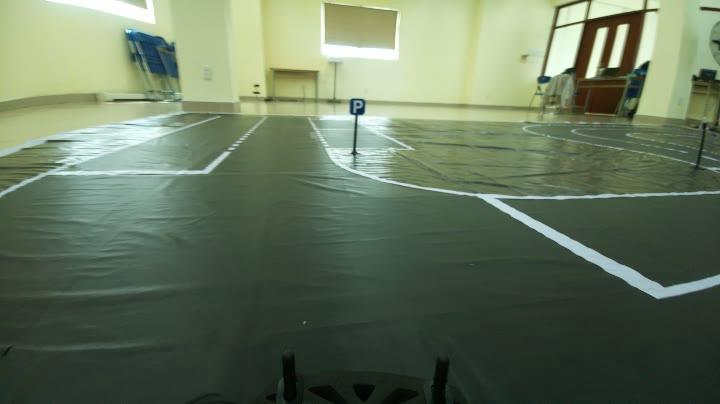parking: (343, 93, 369, 120)
